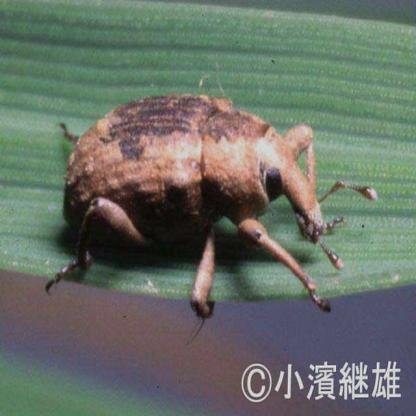rice-bug: (56, 91, 331, 288)
